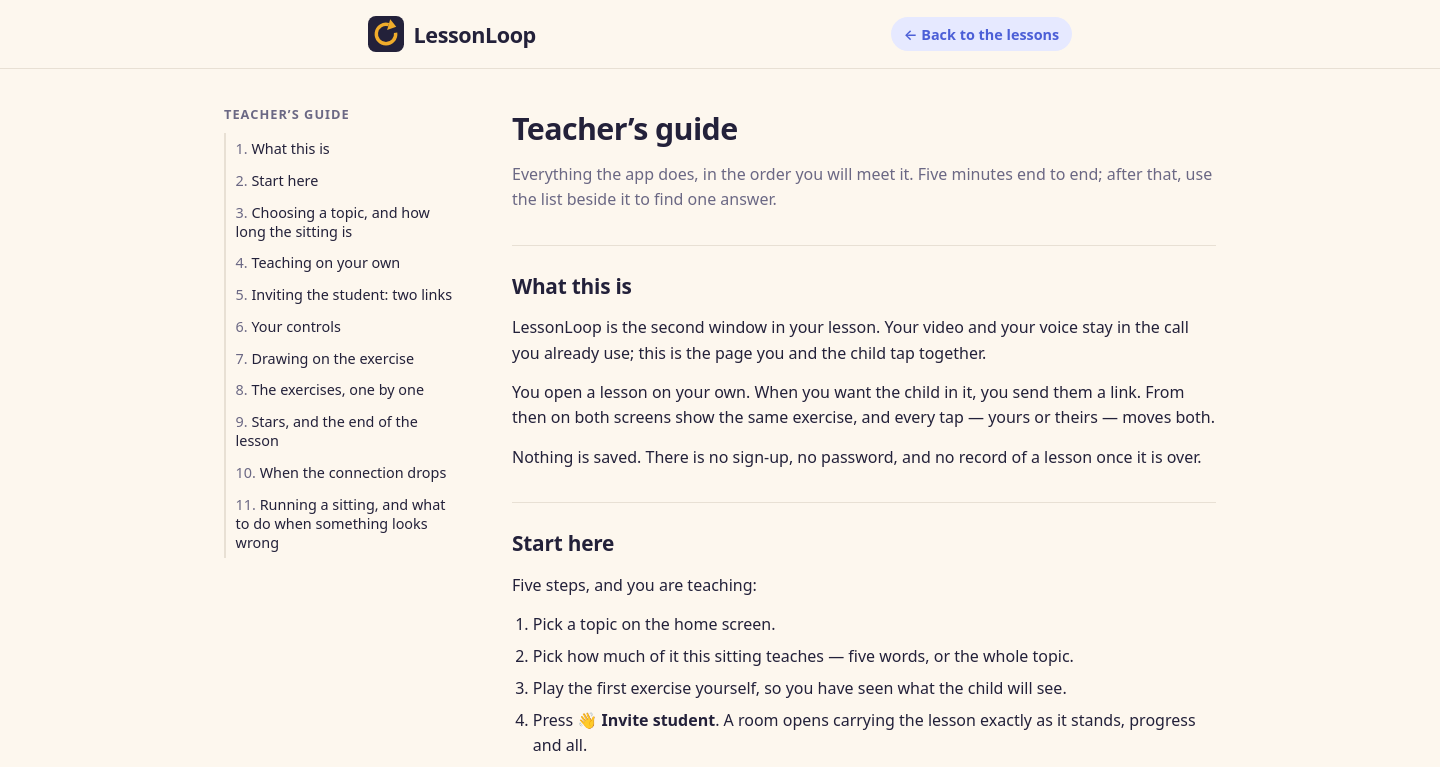
Test case: getting to the guide › leads back to the lessons and nowhere else
The width and height of the screenshot is (1440, 767).
What coordinates should you click on to do the following:
click the button "← Back to the lessons"
I would click on:
 (982, 34)
Its box is [891,17,1072,51].
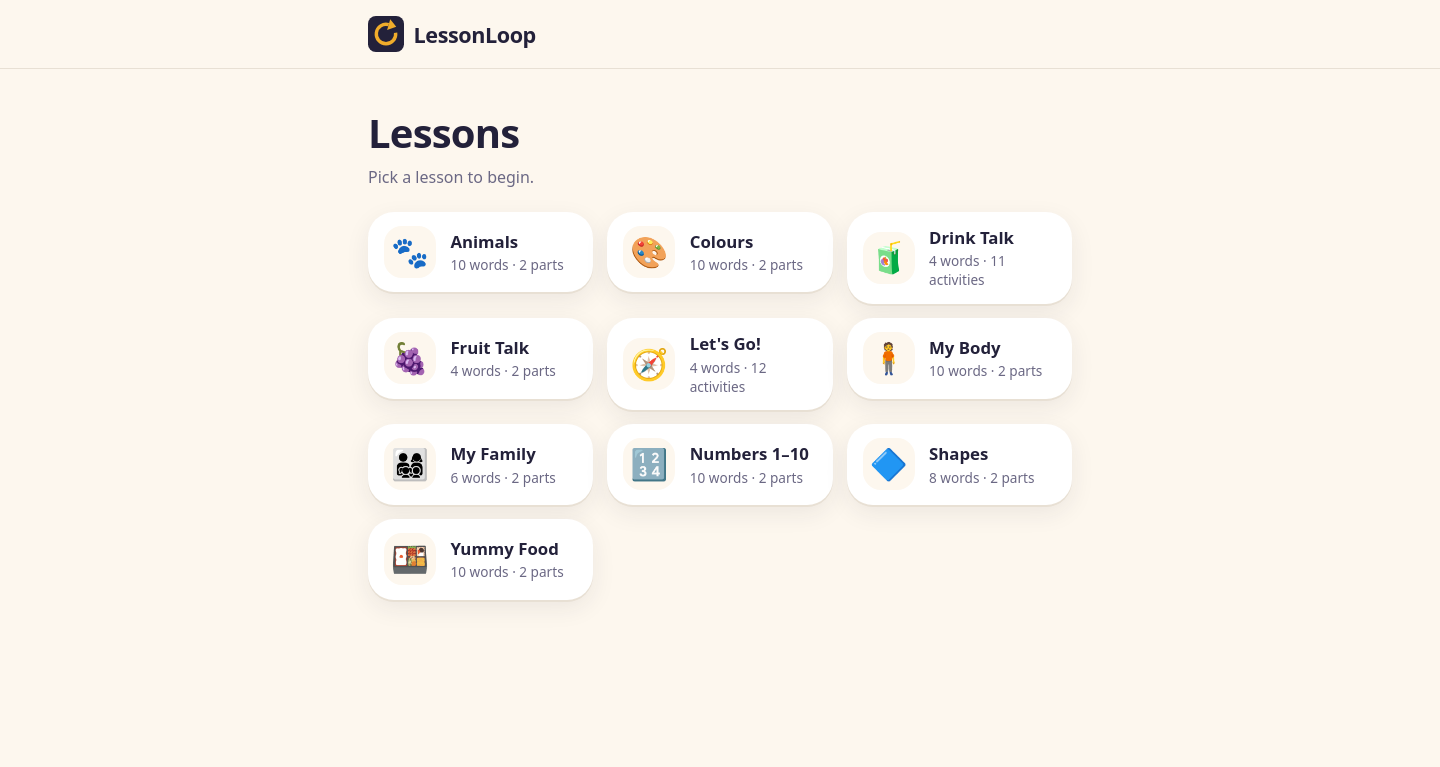
Now the text "Pick a lesson to begin" is shown, box [368,166,534,188]
